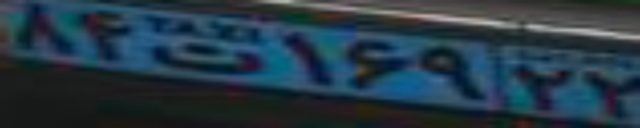1: (280, 32, 330, 85)
2: (512, 65, 574, 111), (584, 70, 639, 117)
4: (81, 9, 131, 59)
6: (342, 39, 411, 88)
8: (11, 4, 73, 54)
9: (421, 46, 487, 100)
te: (149, 39, 262, 74)
